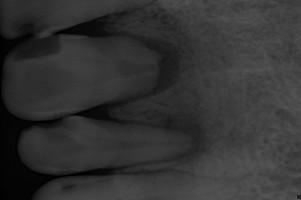Dental Caries: (104, 31, 181, 108)
Furcation Involvement: (145, 112, 214, 162)
